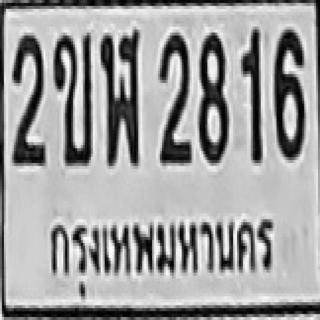A02: (52, 33, 92, 163)
A42: (100, 27, 139, 163)
N01: (240, 28, 262, 161)
N02: (10, 33, 46, 163), (157, 31, 190, 161)
N06: (273, 27, 304, 157)
N08: (197, 31, 227, 161)
P04: (42, 202, 281, 304)
